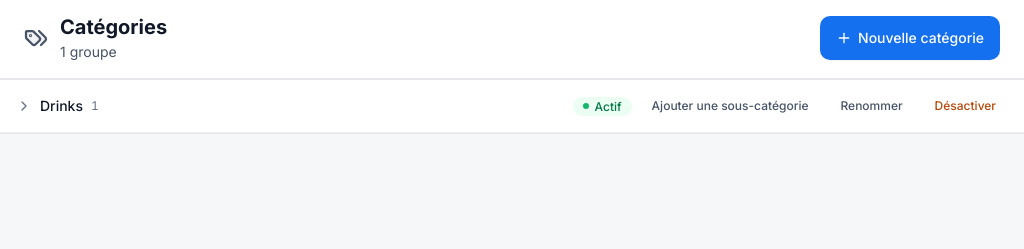
Scenario: CategoriesPage accordion › expands subcategories and products under the clicked category
Click the button "Drinks 1" at point(61, 106), box [16, 96, 565, 116]
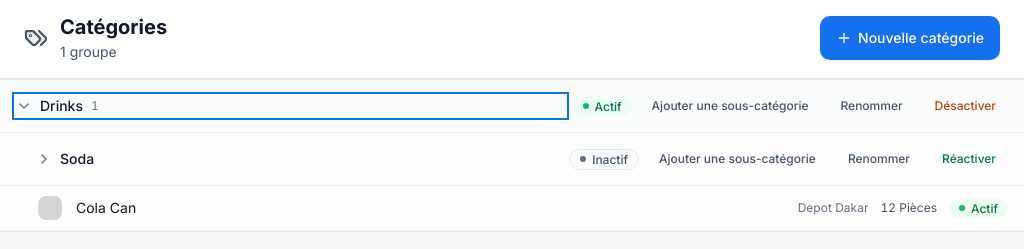
Expected: the text "Soda" is shown, [60, 149, 94, 169]
Expected: the text "Cola Can" is shown, [76, 199, 136, 216]
Expected: the text "Depot Dakar" is shown, [798, 200, 868, 216]
